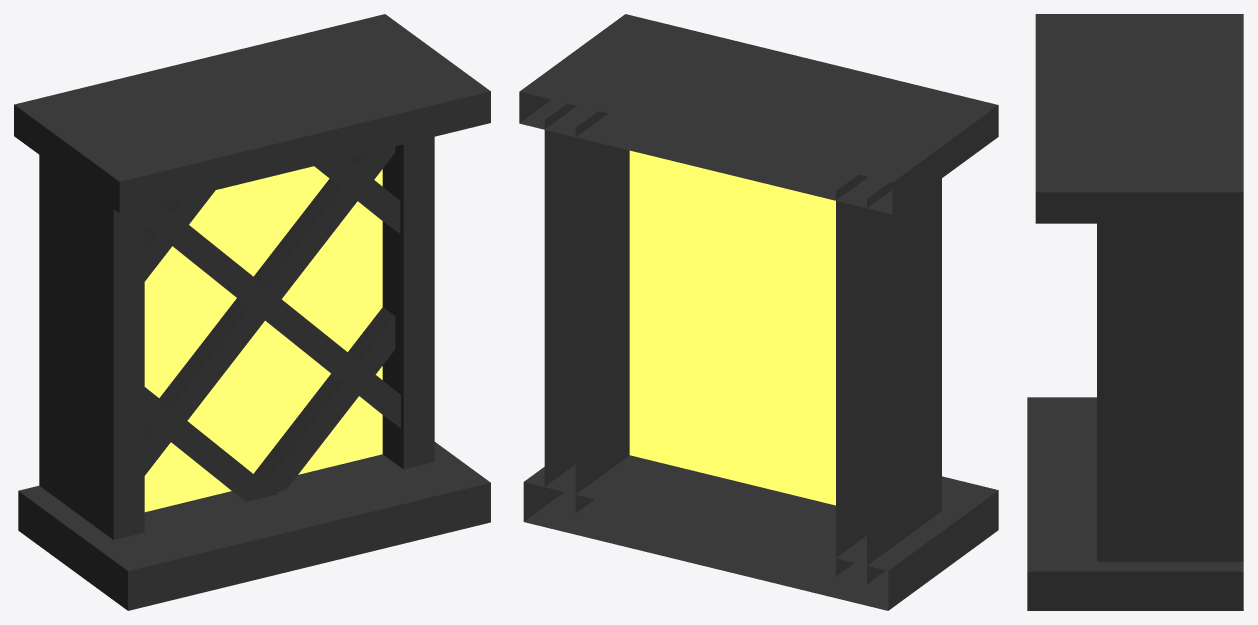
The model's file is SM_BLD_window_v08_03.FBX.
3 views of the same model, side by side, from view 1: azimuth 30°, elevation 25°; view 2: azimuth 150°, elevation 25°; view 3: azimuth 270°, elevation 25° (orthographic). The views are drawn at different scales.
Visible parts, largest first — view 1: SM_BLD_window_v08_03; view 2: SM_BLD_window_v08_03; view 3: SM_BLD_window_v08_03.
Part boxes in pixels (box(x1,y1,x2,y2)): SM_BLD_window_v08_03: box(14, 14, 490, 610); SM_BLD_window_v08_03: box(519, 14, 998, 610); SM_BLD_window_v08_03: box(1027, 14, 1243, 610).
Bounding box in the file's own units: 78.82 × 40.41 × 86.65.
